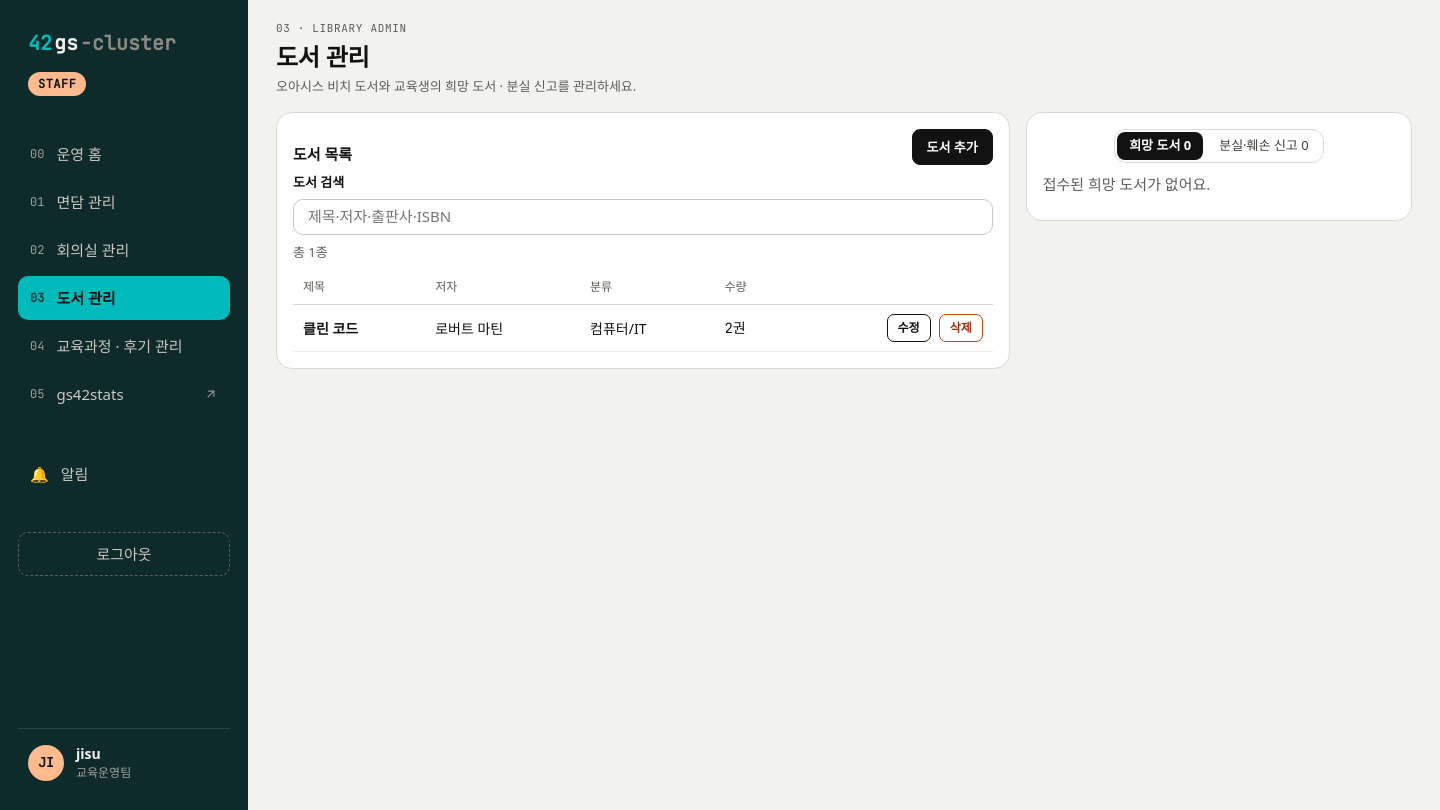
it: 운영 도서 관리 화면 › 도서를 추가한다
The image size is (1440, 810).
Expected: the heading "도서 관리" is shown, left=276, top=40, right=369, bottom=72
Click the button "도서 추가". click: (952, 147)
box: left=912, top=129, right=993, bottom=165
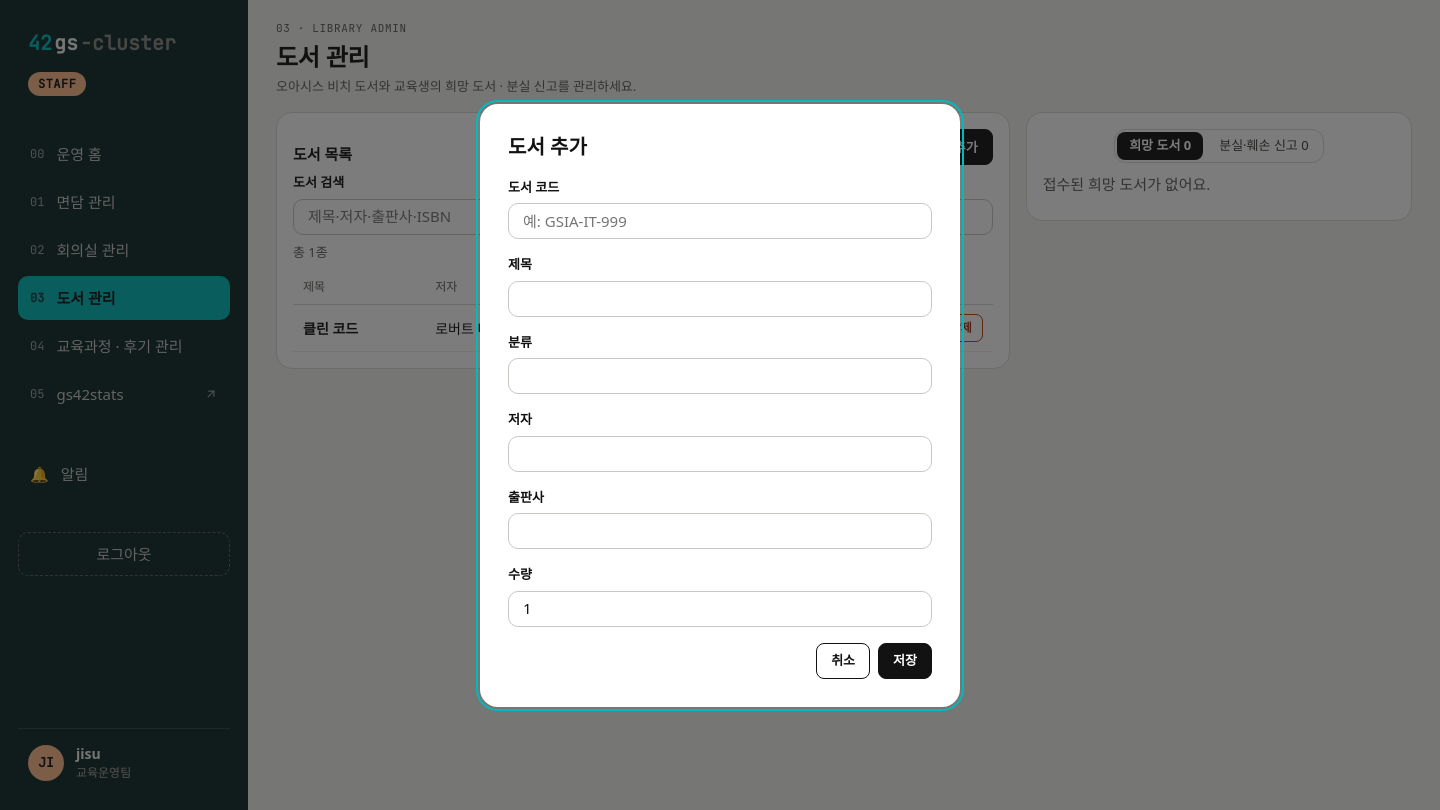
Click the button "저장". click: (905, 660)
box: left=878, top=642, right=932, bottom=678
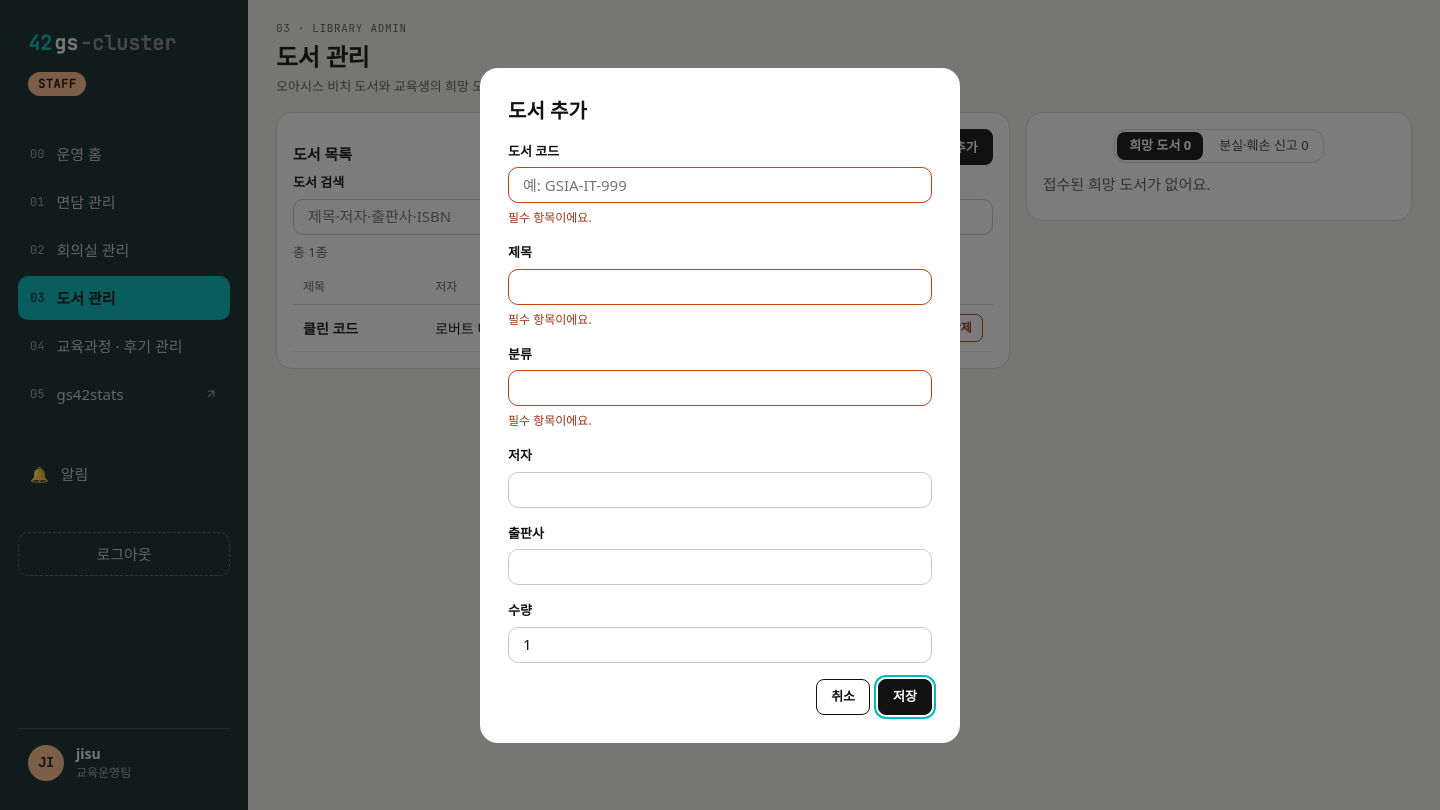
Now the text "필수 항목이에요." is shown 3 times, box left=508, top=209, right=592, bottom=226; left=508, top=310, right=592, bottom=328; left=508, top=412, right=592, bottom=429
Type "N-1" into the field labelled "도서 코드". click: (720, 185)
box: left=508, top=167, right=932, bottom=203
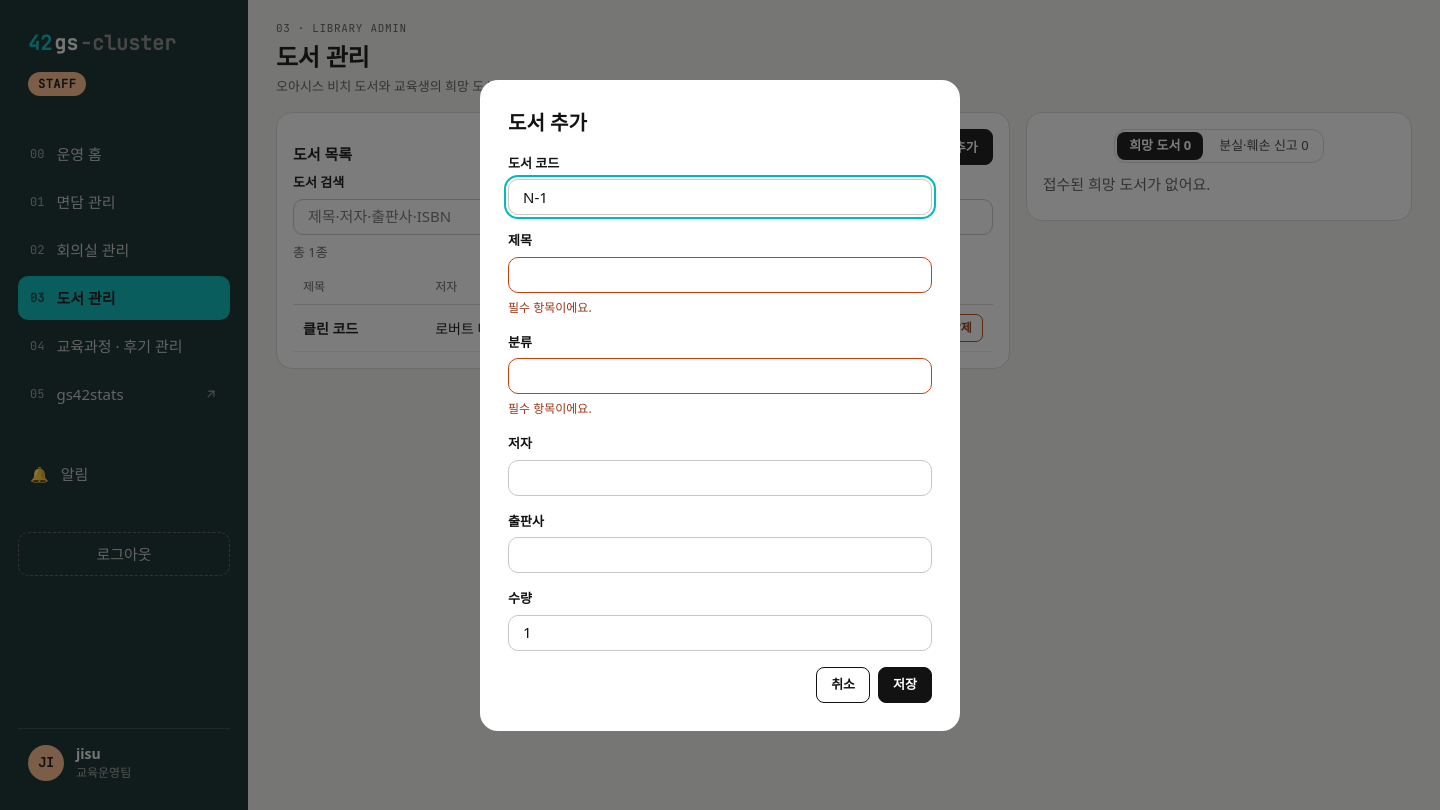
Type "새 책" into the field labelled "제목". click: (720, 274)
box: left=508, top=256, right=932, bottom=292
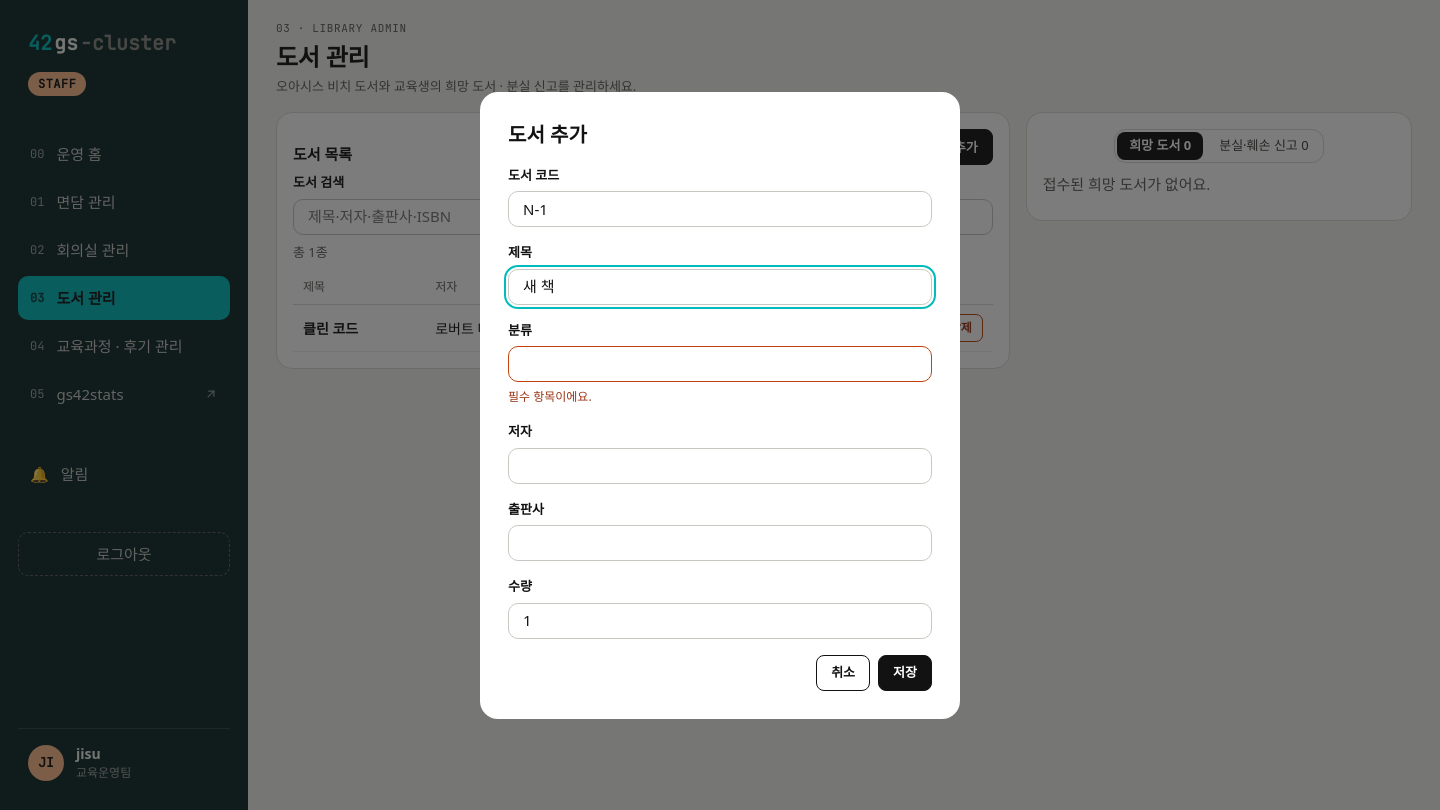
Type "인문" into the field labelled "분류". click: (720, 364)
box: left=508, top=346, right=932, bottom=382
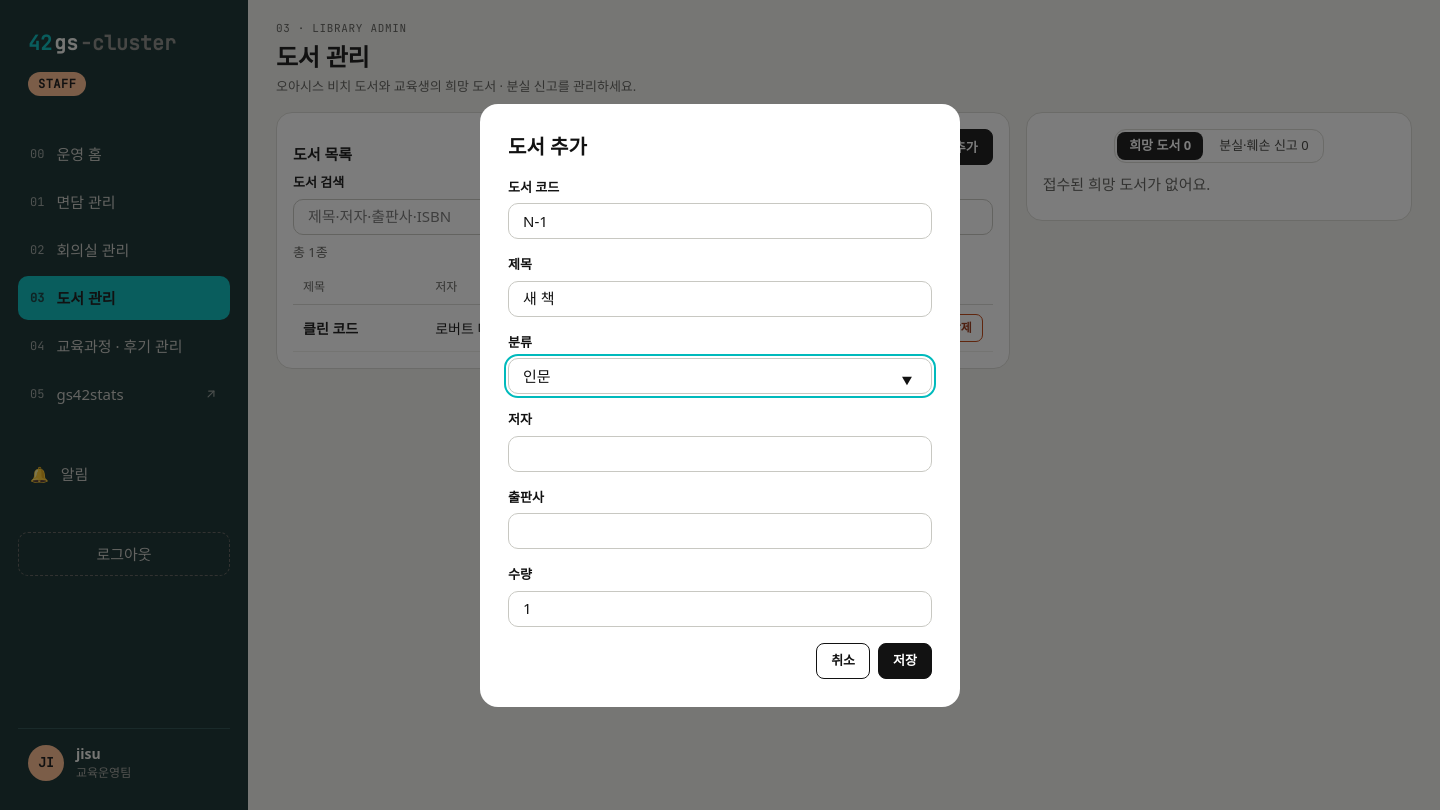
Click the button "저장". click: (905, 660)
box: left=878, top=642, right=932, bottom=678
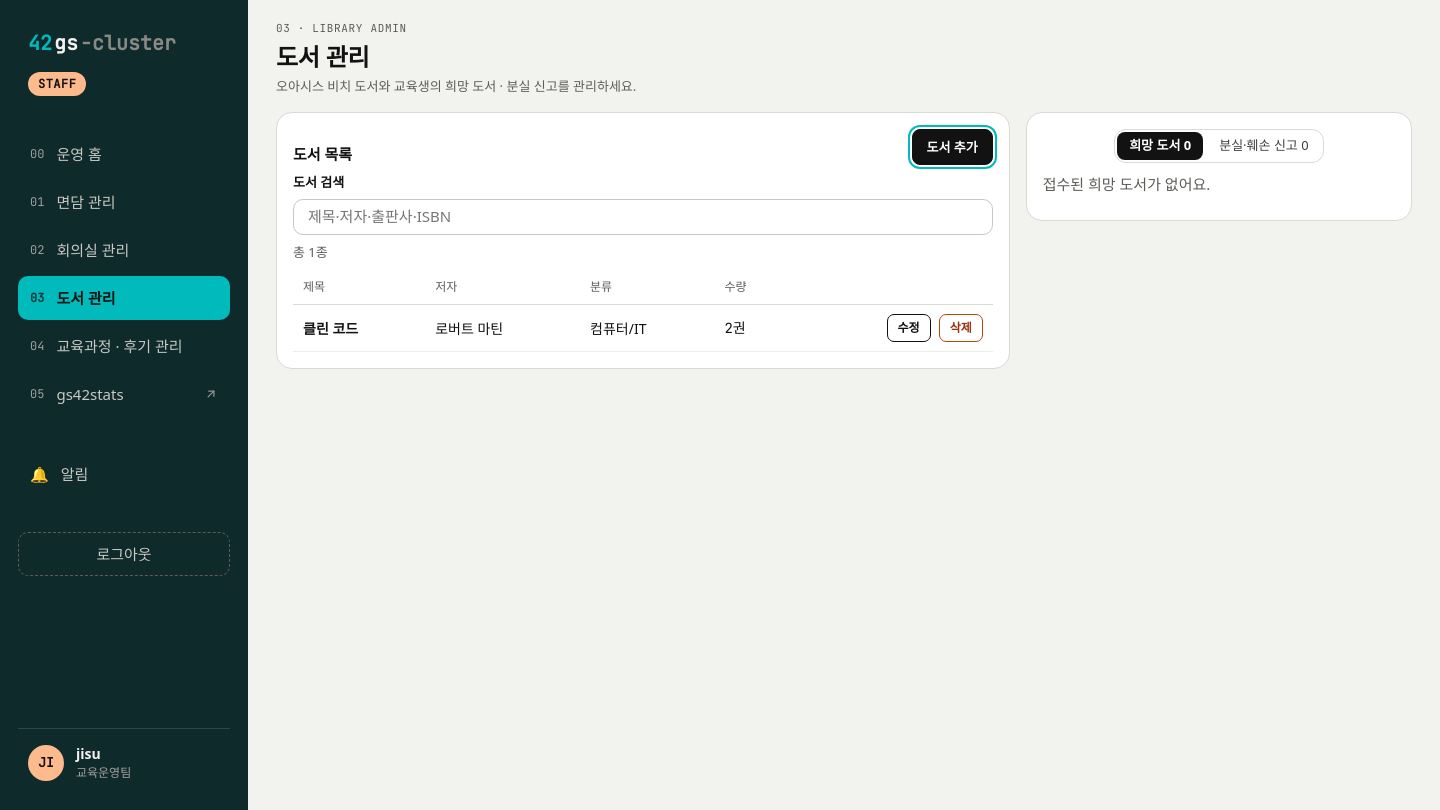
Now the dialog is gone
